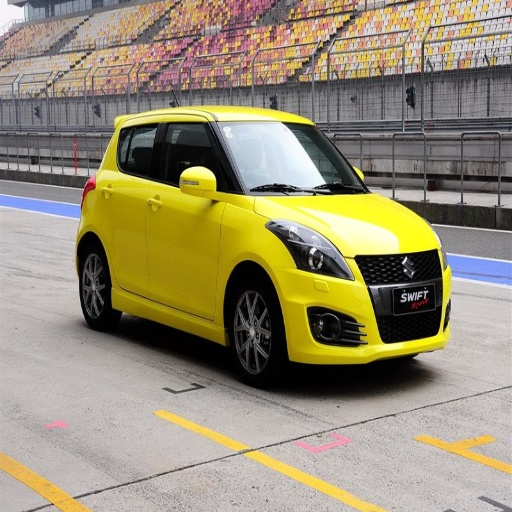front_bumper: (278, 253, 451, 363)
front_right_door: (148, 119, 224, 320)
front_right_light: (269, 224, 356, 279)
